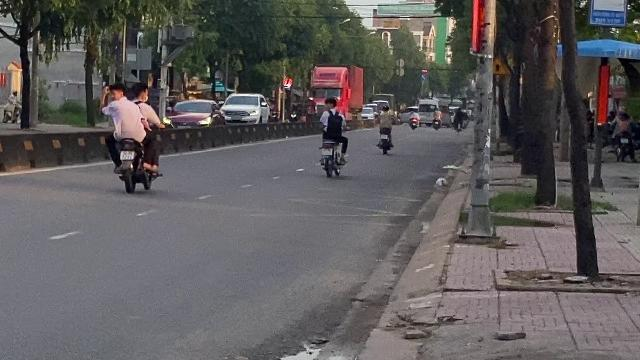licenseplate: (120, 150, 134, 160)
motorcyclist: (102, 74, 164, 192)
nohelmet: (130, 80, 148, 103), (106, 81, 124, 102)
